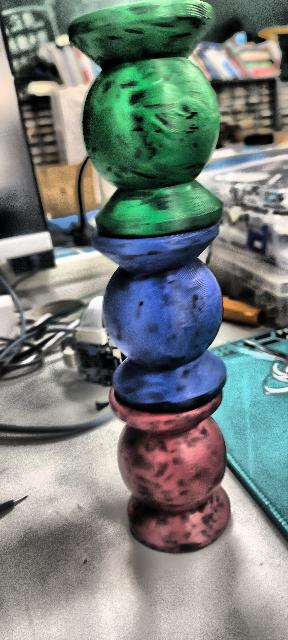blue: (91, 221, 227, 411)
green: (63, 0, 228, 238)
red: (103, 386, 237, 559)
